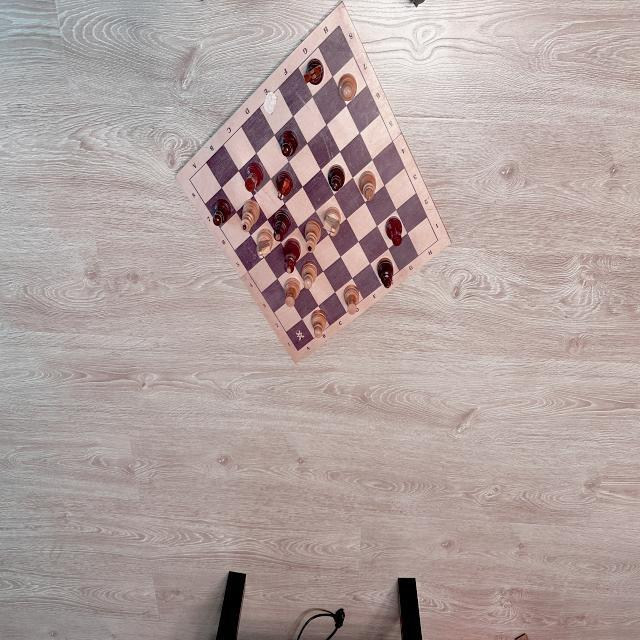chess-table-corners: (337, 22, 342, 30), (296, 348, 300, 354), (188, 177, 192, 182), (436, 238, 439, 243)
